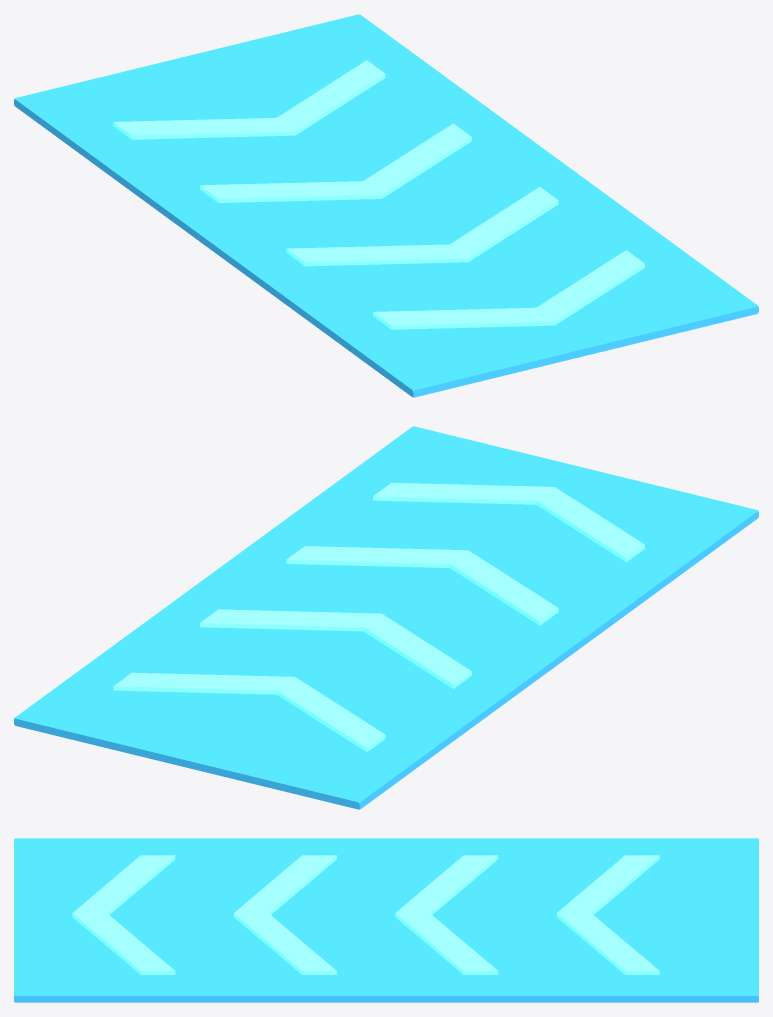
Rendered from Warp-Boost-Pad-v3.0.0.glb.
3 renders of one model, top to bottom at view 1: azimuth 30°, elevation 25°; view 2: azimuth 150°, elevation 25°; view 3: azimuth 270°, elevation 25°, orthographic. The views are drawn at different scales.
Visible parts, largest first — view 1: frame, chevron2L, chevron0L, chevron3L, chevron1L, chevron0R, chevron2R, chevron1R, chevron3R; view 2: frame, chevron0R, chevron1R, chevron3R, chevron2R, chevron0L, chevron2L, chevron3L, chevron1L; view 3: frame, chevron1R, chevron2R, chevron0R, chevron3R, chevron3L, chevron1L, chevron0L, chevron2L.
Boxes of the visible parts, x1=… form: frame: x1=14, y1=14, x2=758, y2=397; chevron2L: x1=286, y1=244, x2=468, y2=266; chevron0L: x1=113, y1=117, x2=295, y2=139; chevron3L: x1=373, y1=307, x2=554, y2=329; chevron1L: x1=200, y1=181, x2=381, y2=202; chevron0R: x1=277, y1=60, x2=385, y2=135; chevron2R: x1=450, y1=187, x2=558, y2=261; chevron1R: x1=363, y1=123, x2=471, y2=198; chevron3R: x1=536, y1=250, x2=644, y2=325; frame: x1=14, y1=426, x2=758, y2=809; chevron0R: x1=113, y1=672, x2=294, y2=694; chevron1R: x1=200, y1=609, x2=380, y2=631; chevron3R: x1=373, y1=482, x2=554, y2=504; chevron2R: x1=286, y1=546, x2=467, y2=567; chevron0L: x1=276, y1=677, x2=385, y2=752; chevron2L: x1=449, y1=550, x2=558, y2=625; chevron3L: x1=536, y1=487, x2=644, y2=562; chevron1L: x1=363, y1=613, x2=471, y2=688; frame: x1=14, y1=838, x2=758, y2=1002; chevron1R: x1=395, y1=913, x2=498, y2=974; chevron2R: x1=233, y1=913, x2=336, y2=974; chevron0R: x1=556, y1=913, x2=659, y2=974; chevron3R: x1=72, y1=913, x2=175, y2=974; chevron3L: x1=72, y1=855, x2=175, y2=914; chevron1L: x1=395, y1=855, x2=498, y2=914; chevron0L: x1=557, y1=855, x2=659, y2=914; chevron2L: x1=234, y1=855, x2=336, y2=914.
Size of the model in its own units: 3 by 0.095 by 6.
